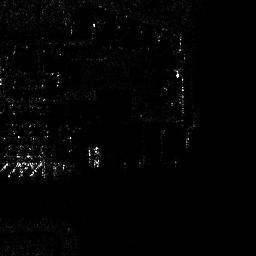ship: (92, 145, 101, 168)
